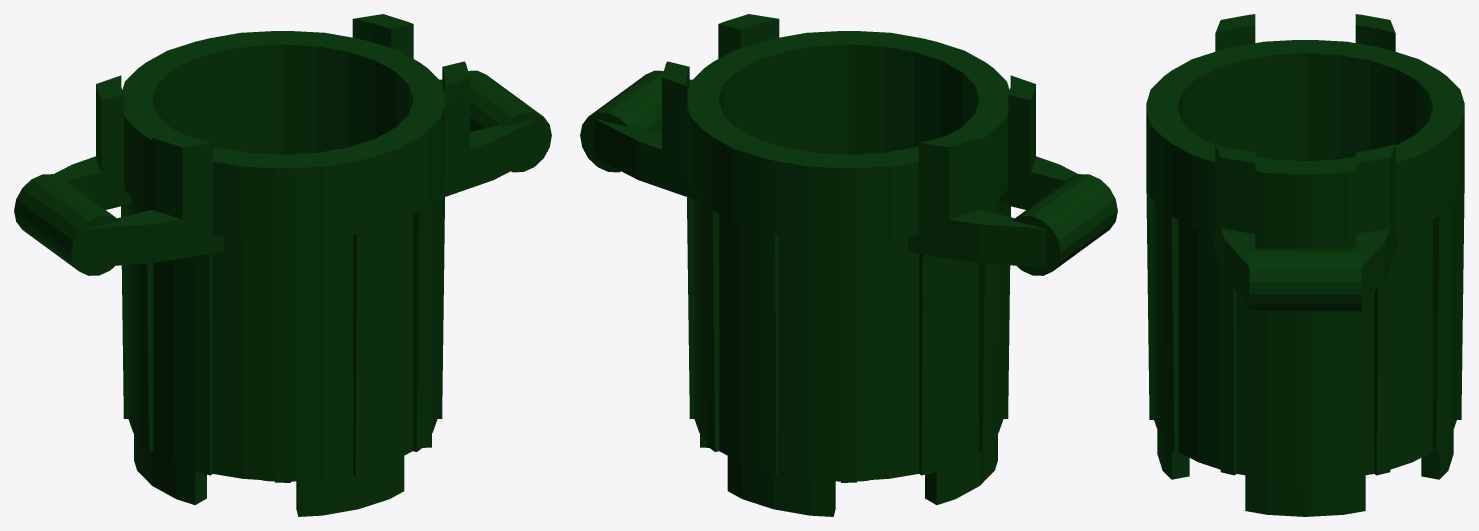
File: trash.dae
The picture shows the model from 3 angles, left to right: view 1: azimuth 30°, elevation 25°; view 2: azimuth 150°, elevation 25°; view 3: azimuth 270°, elevation 25°; orthographic projection. The views are drawn at different scales.
Parts seen in each view (by area): view 1: Part.0; view 2: Part.0; view 3: Part.0.
Part boxes in pixels (left/top/right/bottom): Part.0: left=14, top=14, right=551, bottom=516; Part.0: left=580, top=14, right=1117, bottom=516; Part.0: left=1146, top=14, right=1464, bottom=516.
Bounding box in the file's own units: 27.2 × 20.18 × 15.92.
